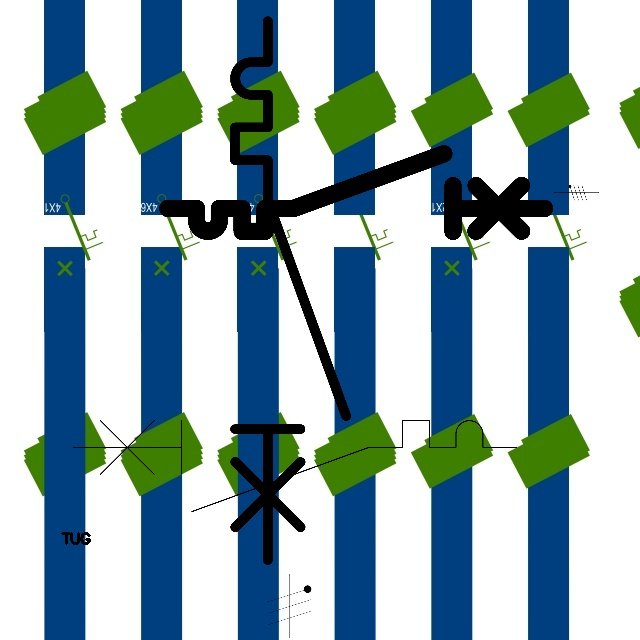interruptor_termomagnetico: (221, 7, 359, 573), (62, 409, 528, 523), (158, 144, 554, 241)
